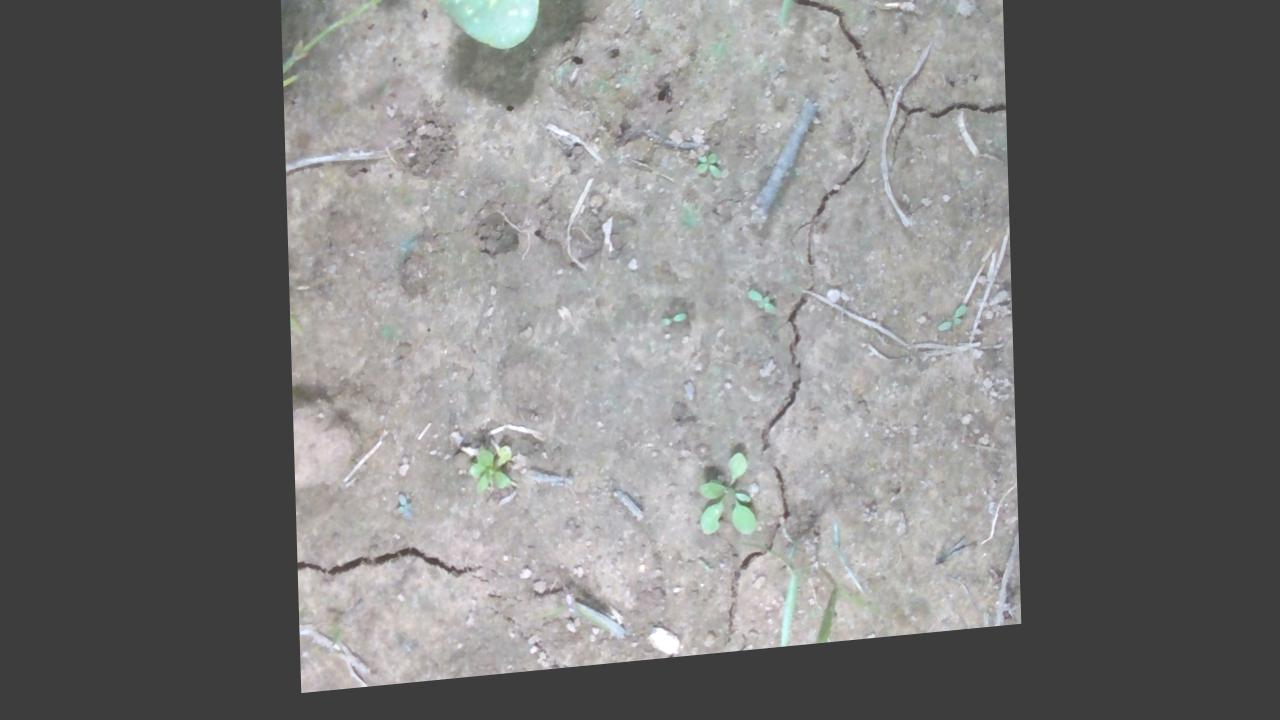weed: (689, 153, 721, 206)
